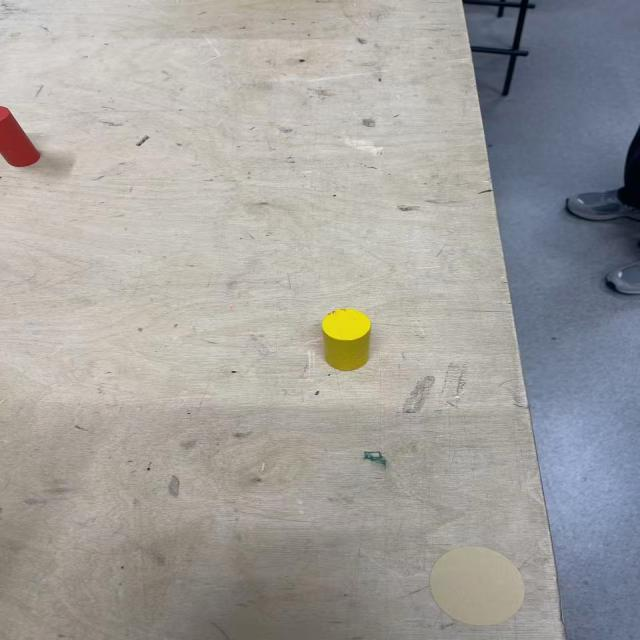yellow_cylinder: (320, 308, 371, 372)
